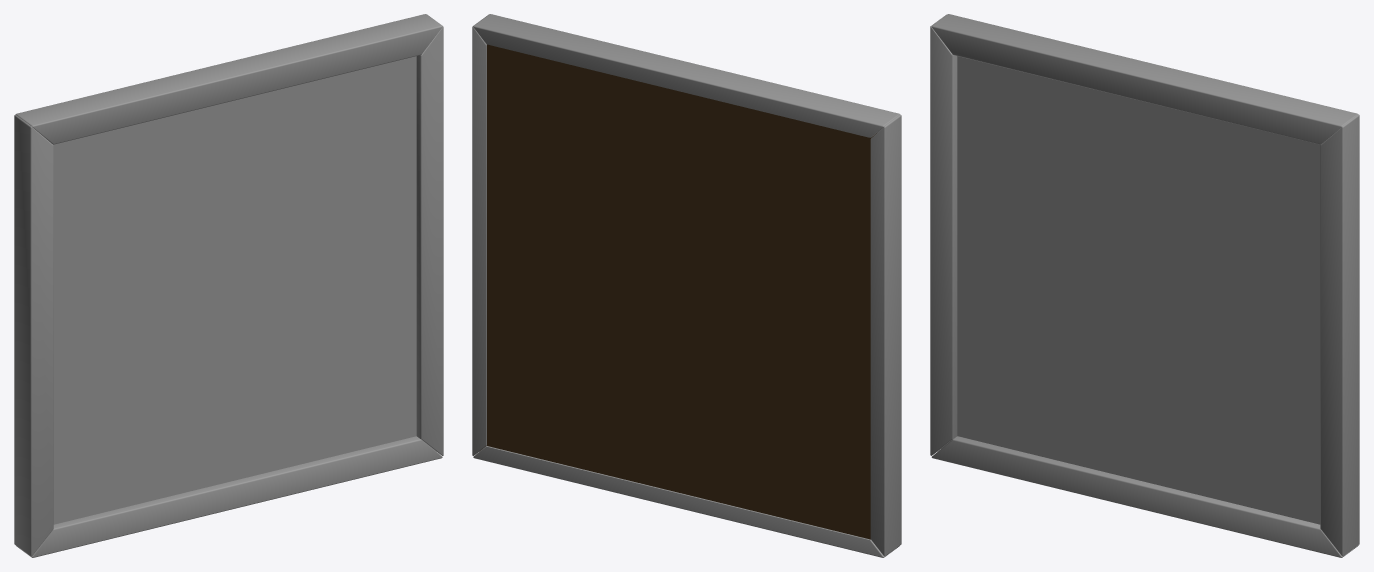
File: QQQQQQ.fbx
The picture shows the model from 3 angles, left to right: view 1: azimuth 30°, elevation 25°; view 2: azimuth 150°, elevation 25°; view 3: azimuth 330°, elevation 25°; orthographic projection.
Parts seen in each view (by area): view 1: Cube_1, Cube_Cube_1, Cube_Cube_2_2, Cube_Cube, Cube_Cube_3; view 2: Cube_2, Cube_Cube_1, Cube_Cube_2_2, Cube_Cube_3, Cube_Cube; view 3: Cube_1, Cube_Cube, Cube_Cube_2_2, Cube_Cube_1, Cube_Cube_3.
Part boxes in pixels (bbox=[...]): Cube_1: bbox=[53, 56, 416, 524]; Cube_Cube_1: bbox=[14, 114, 53, 556]; Cube_Cube_2_2: bbox=[15, 14, 442, 144]; Cube_Cube: bbox=[416, 14, 443, 455]; Cube_Cube_3: bbox=[16, 436, 442, 557]; Cube_2: bbox=[480, 44, 876, 539]; Cube_Cube_1: bbox=[870, 114, 901, 556]; Cube_Cube_2_2: bbox=[473, 14, 900, 137]; Cube_Cube_3: bbox=[473, 446, 899, 557]; Cube_Cube: bbox=[472, 14, 488, 455]; Cube_1: bbox=[957, 56, 1320, 524]; Cube_Cube: bbox=[1320, 114, 1359, 556]; Cube_Cube_2_2: bbox=[931, 14, 1358, 144]; Cube_Cube_1: bbox=[930, 14, 957, 455]; Cube_Cube_3: bbox=[931, 436, 1358, 557].
Bounding box in the file's own units: 31.36 × 31.36 × 2.26.
